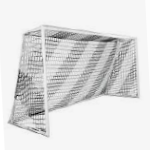goals: (7, 23, 142, 140)
